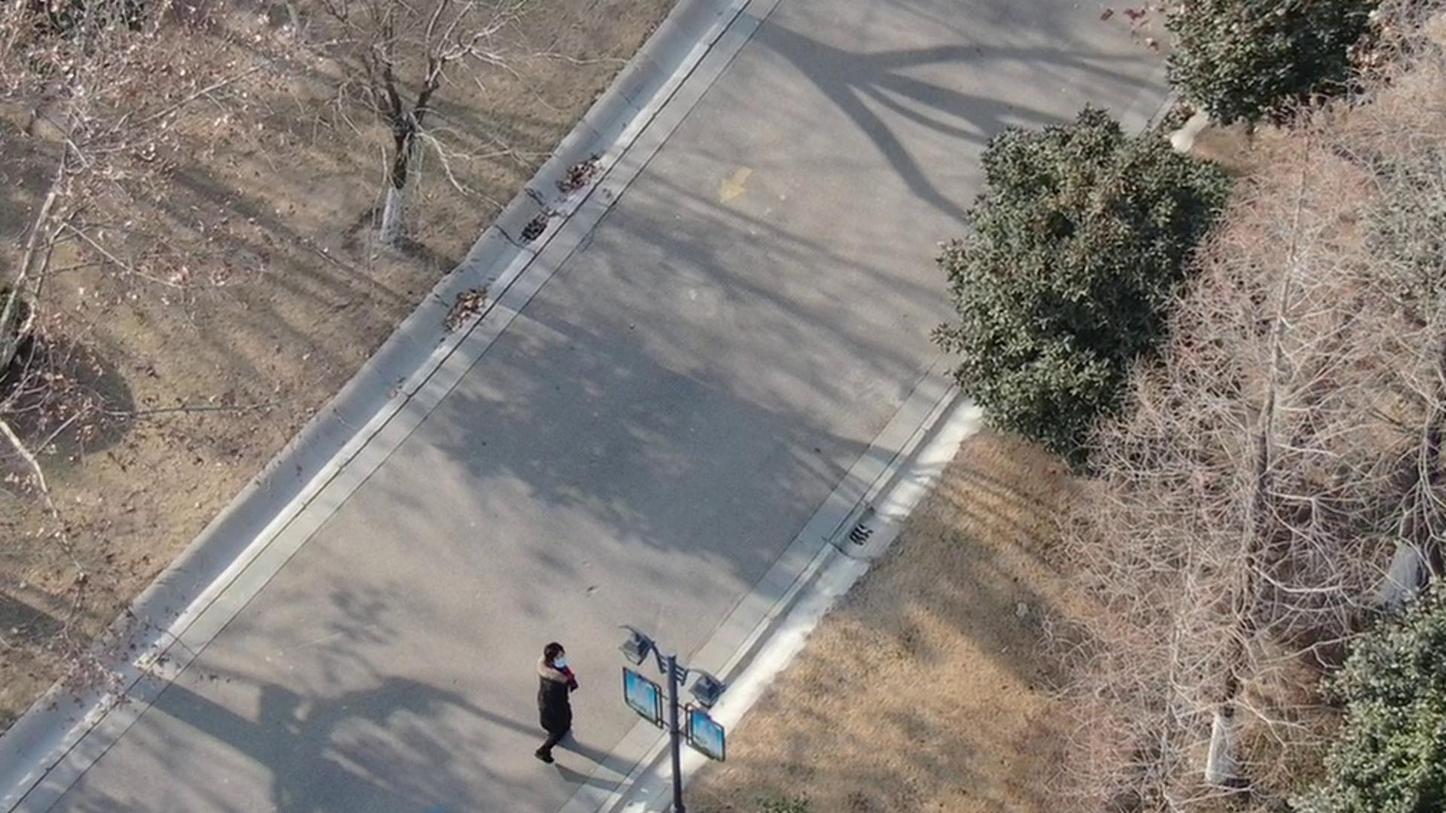human: (523, 614, 578, 751)
